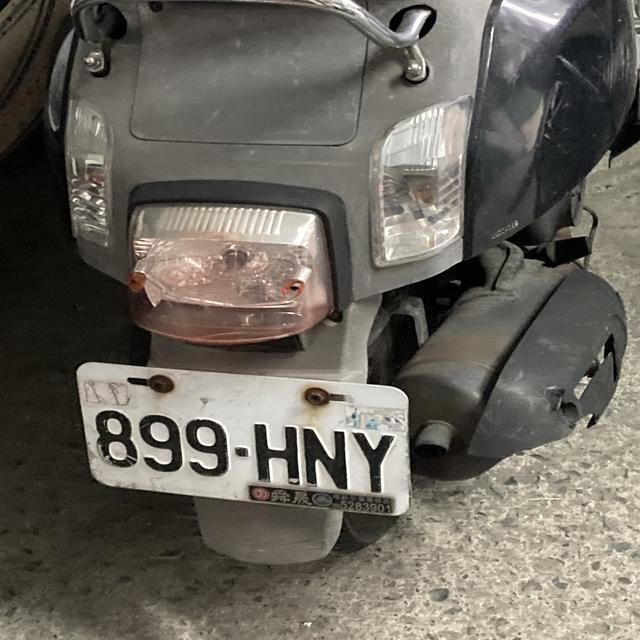license: (80, 394, 408, 499)
